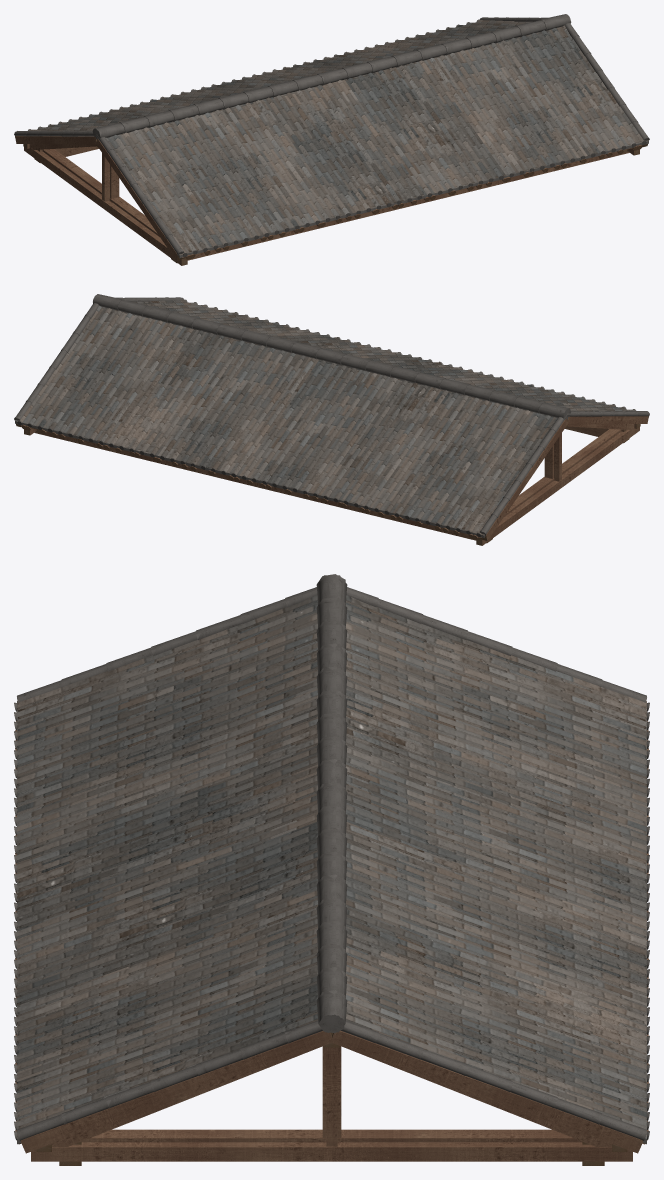
The model's file is CourtLowWing.fbx.
The picture shows the model from 3 angles, top to bottom: view 1: azimuth 30°, elevation 25°; view 2: azimuth 150°, elevation 25°; view 3: azimuth 270°, elevation 25°; orthographic projection. The views are drawn at different scales.
Visible parts, largest first — view 1: CourtLowWing_Tier1, CourtLowWing_Tier0, CourtLowWing_Tier2; view 2: CourtLowWing_Tier1, CourtLowWing_Tier0, CourtLowWing_Tier2; view 3: CourtLowWing_Tier0, CourtLowWing_Tier1, CourtLowWing_Tier2.
Boxes of the visible parts, bbox=[...] form: CourtLowWing_Tier1: bbox=[14, 14, 649, 265]; CourtLowWing_Tier0: bbox=[14, 14, 649, 265]; CourtLowWing_Tier2: bbox=[17, 15, 649, 265]; CourtLowWing_Tier1: bbox=[14, 294, 649, 545]; CourtLowWing_Tier0: bbox=[14, 295, 649, 545]; CourtLowWing_Tier2: bbox=[17, 294, 648, 543]; CourtLowWing_Tier0: bbox=[14, 574, 649, 1165]; CourtLowWing_Tier1: bbox=[15, 575, 648, 1165]; CourtLowWing_Tier2: bbox=[21, 580, 642, 1161].
Size of the model in its own units: 14.89 by 2.54 by 9.08.
3 materials, 3 textured.
